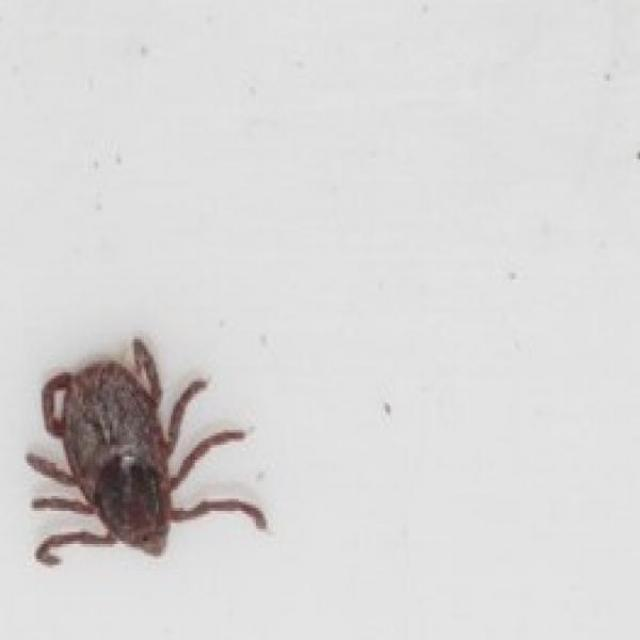Rhipicephalus Sanguineus-F: (24, 333, 268, 568)
